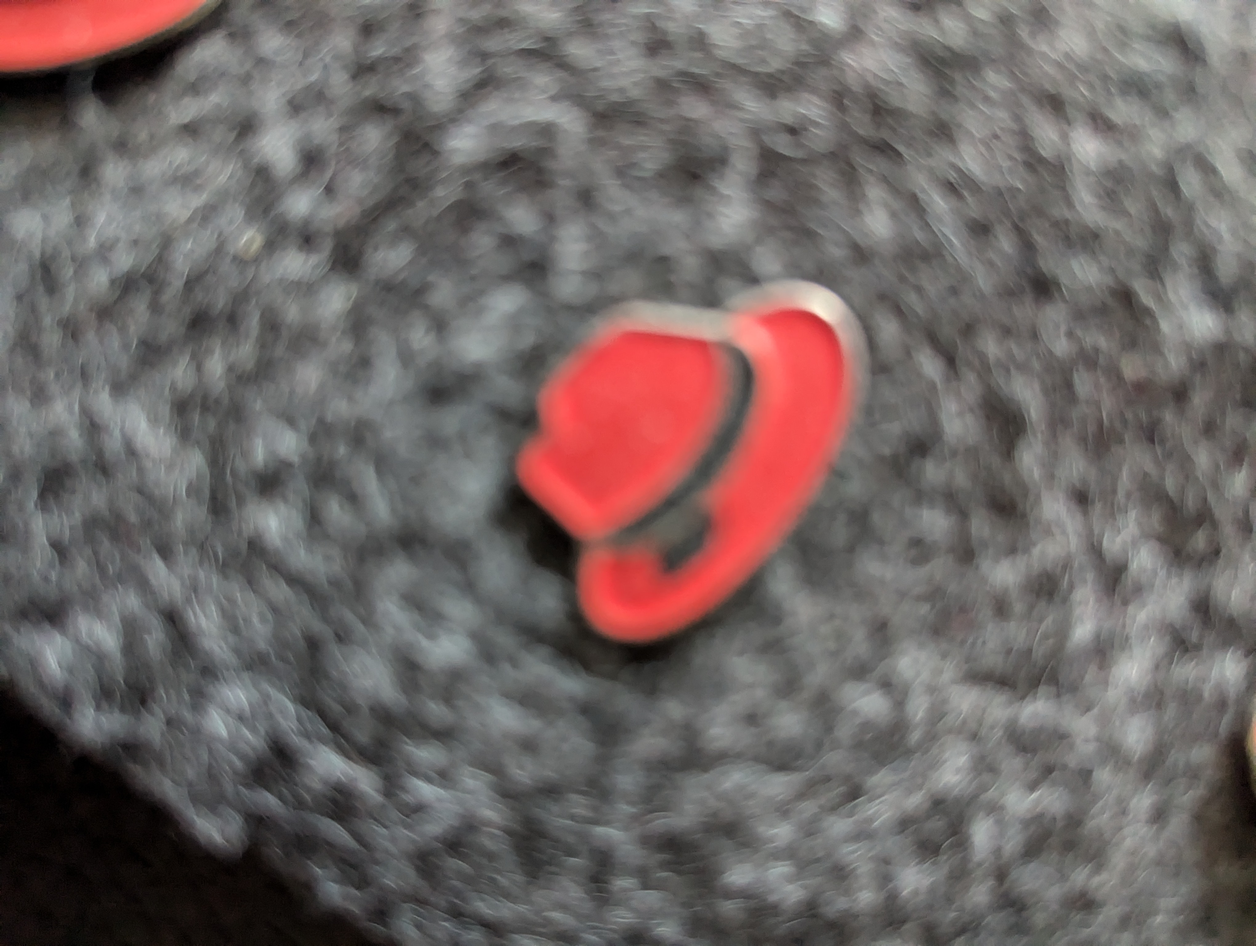Red-Hat: (488, 244, 935, 686)
Scratch: (644, 482, 725, 586)
